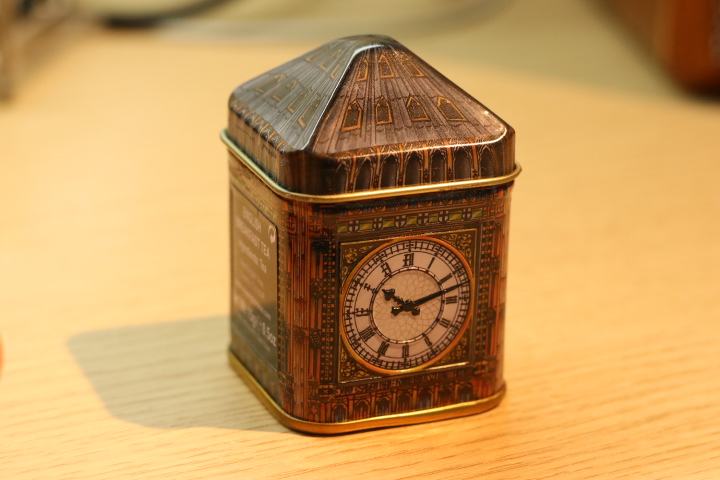Big Ben: (203, 17, 546, 448)
